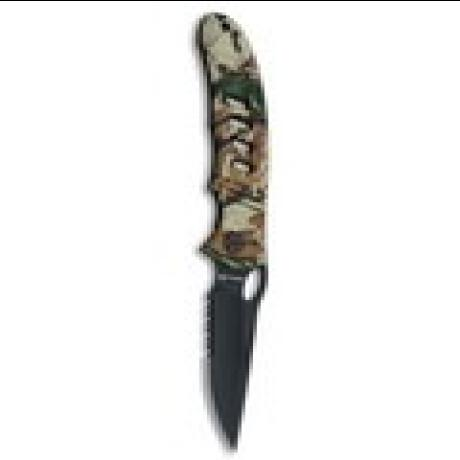weapon: (191, 10, 275, 456)
